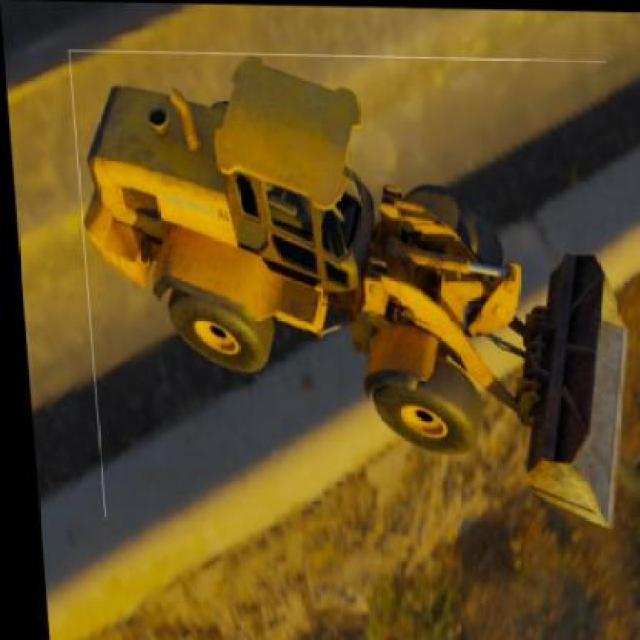buldozerpayloadergrader: (88, 55, 629, 533)
